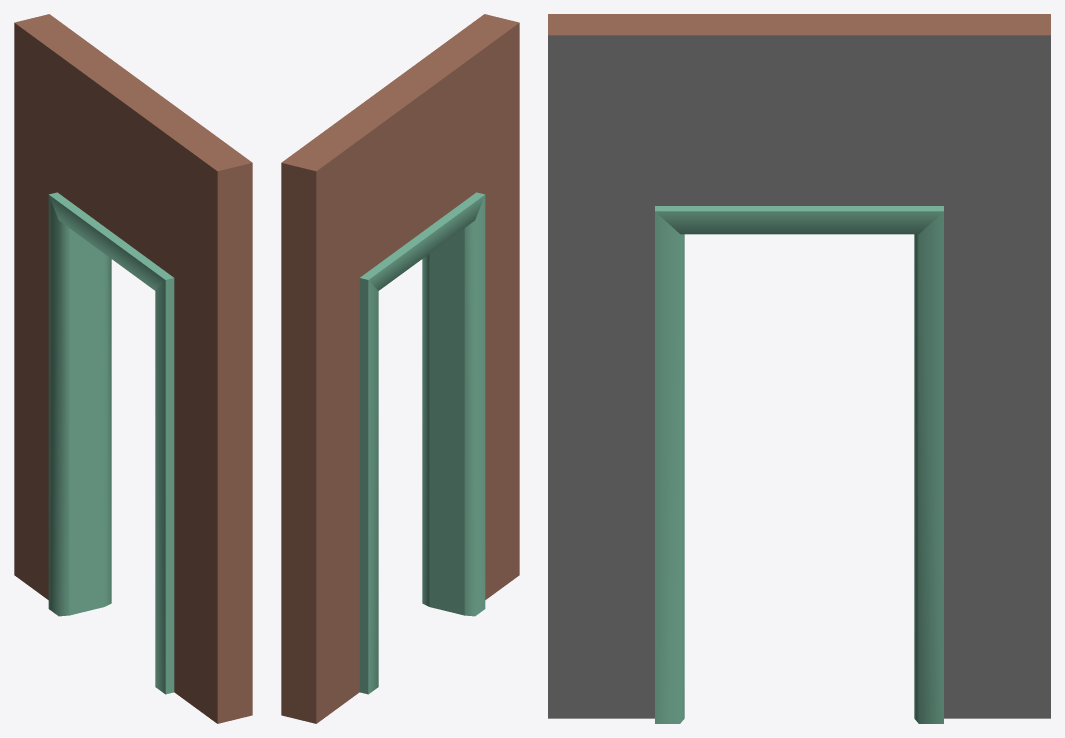
Rendered from SM_Doorway_Standard.fbx.
3 renders of one model, left to right at view 1: azimuth 30°, elevation 25°; view 2: azimuth 150°, elevation 25°; view 3: azimuth 270°, elevation 25°, orthographic. The views are drawn at different scales.
Visible parts, largest first — view 1: Doorway; view 2: Doorway; view 3: Doorway.
Part boxes in pixels (bbox=[...]): Doorway: bbox=[14, 14, 252, 723]; Doorway: bbox=[281, 14, 519, 723]; Doorway: bbox=[548, 14, 1050, 723].
Size of what is drawn, in the model's own units: 30 by 200 by 300.
